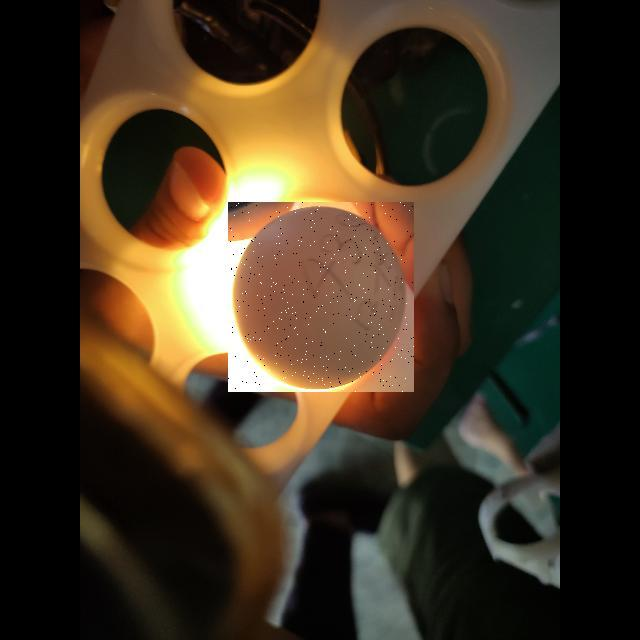Fertile: (228, 202, 414, 392)
